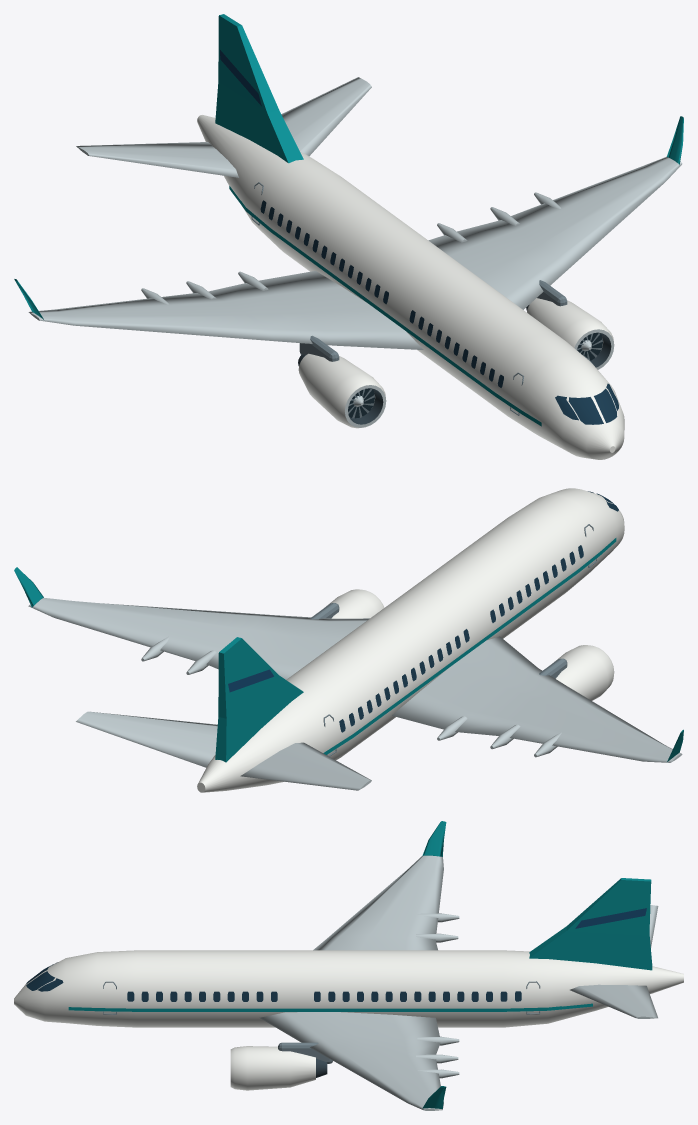
The picture shows the model from 3 angles, top to bottom: view 1: azimuth 30°, elevation 25°; view 2: azimuth 150°, elevation 25°; view 3: azimuth 270°, elevation 25°; orthographic projection. The views are drawn at different scales.
Visible parts, largest first — view 1: plane; view 2: plane; view 3: plane.
Boxes of the visible parts, box(x1,y1,x2,y2) form: plane: box(14, 14, 683, 459); plane: box(14, 488, 683, 792); plane: box(14, 821, 683, 1110).
Bounding box in the file's own units: 10.52 × 3.04 × 11.25.
